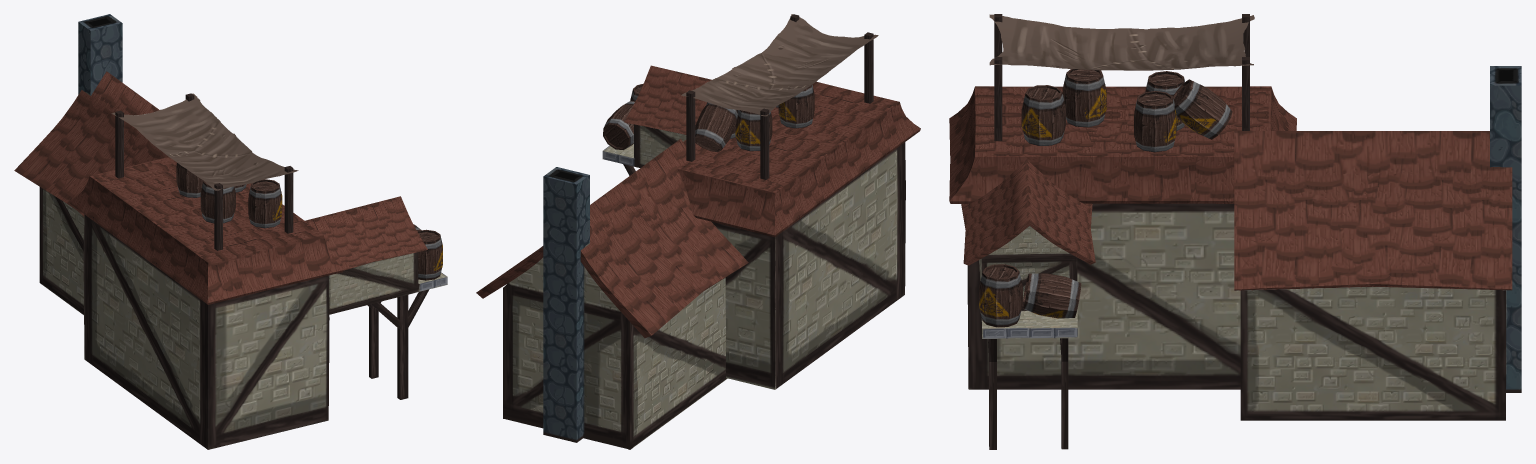
Rendered from Armory_breakable.fbx.
The picture shows the model from 3 angles, left to right: view 1: azimuth 30°, elevation 25°; view 2: azimuth 150°, elevation 25°; view 3: azimuth 270°, elevation 25°; orthographic projection. The views are drawn at different scales.
Parts seen in each view (by area): view 1: polySurface26, polySurface32, pasted__pCylinder5, pasted__pCylinder3, pasted__pCylinder6, pasted__pCylinder9; view 2: polySurface26, polySurface32, pasted__pCylinder7, pasted__pCylinder6, pasted__pCylinder4, pasted__pCylinder9; view 3: polySurface26, polySurface32, pasted__pCylinder3, pasted__pCylinder5, pasted__pCylinder8, pasted__pCylinder7, pasted__pCylinder6, pasted__pCylinder4, pasted__pCylinder9.
Part boxes in pixels (box(x1,y1,x2,y2)): polySurface26: box(14, 14, 447, 449); polySurface32: box(111, 93, 298, 190); pasted__pCylinder5: box(248, 179, 282, 228); pasted__pCylinder3: box(417, 229, 442, 280); pasted__pCylinder6: box(200, 181, 235, 223); pasted__pCylinder9: box(176, 163, 203, 197); polySurface26: box(476, 14, 920, 449); polySurface32: box(681, 14, 878, 116); pasted__pCylinder7: box(695, 102, 737, 152); pasted__pCylinder6: box(778, 85, 814, 128); pasted__pCylinder4: box(603, 101, 635, 150); pasted__pCylinder9: box(735, 110, 772, 151); polySurface26: box(949, 14, 1521, 449); polySurface32: box(989, 14, 1254, 70); pasted__pCylinder3: box(979, 264, 1022, 327); pasted__pCylinder5: box(1021, 85, 1065, 145); pasted__pCylinder8: box(1134, 91, 1176, 152); pasted__pCylinder7: box(1173, 79, 1232, 139); pasted__pCylinder6: box(1062, 69, 1106, 127); pasted__pCylinder4: box(1022, 273, 1081, 318); pasted__pCylinder9: box(1145, 71, 1184, 131).
Bounding box in the file's own units: 5.44 × 5.25 × 8.49.
